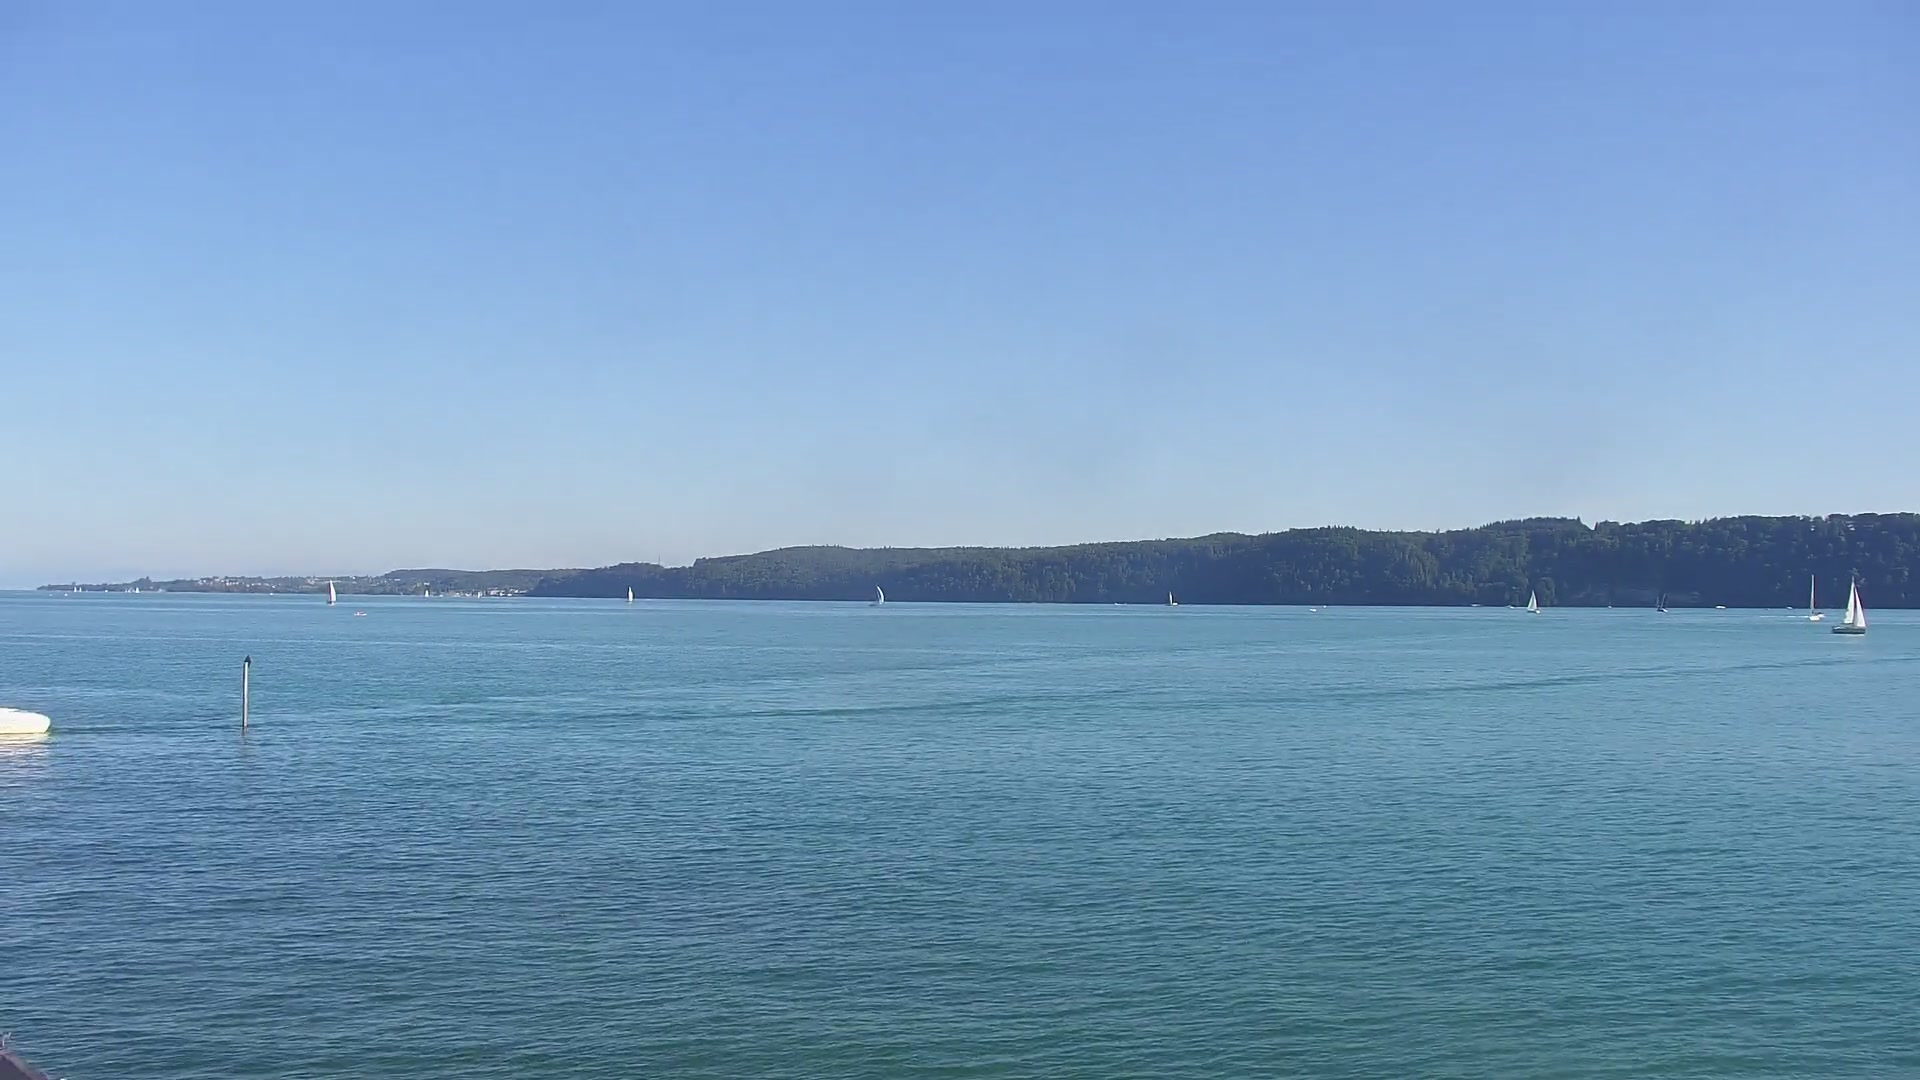sea: (1, 667, 51, 736), (1832, 575, 1867, 634), (1807, 574, 1825, 622), (869, 583, 885, 607), (324, 579, 336, 607), (1526, 589, 1539, 613), (1656, 592, 1668, 613), (1168, 591, 1179, 607), (626, 585, 634, 603), (352, 609, 368, 617), (135, 585, 141, 593), (1714, 605, 1726, 609), (425, 589, 429, 597)
